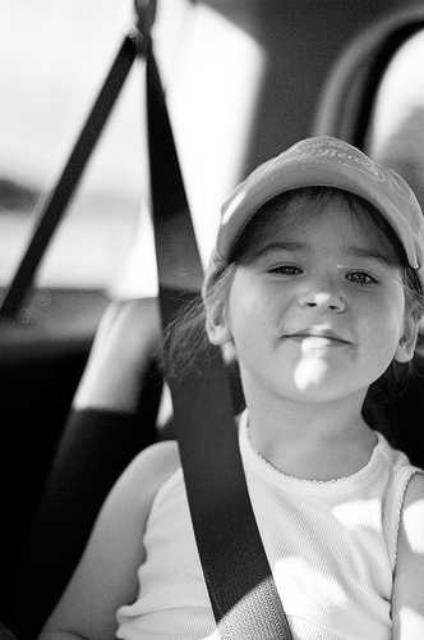SafeDriving: (332, 256, 388, 294), (256, 249, 314, 284)
Seatbelt: (127, 0, 299, 640)
